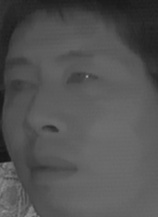eye: (63, 69, 102, 89), (5, 75, 37, 96)
mouth: (25, 147, 80, 188)
